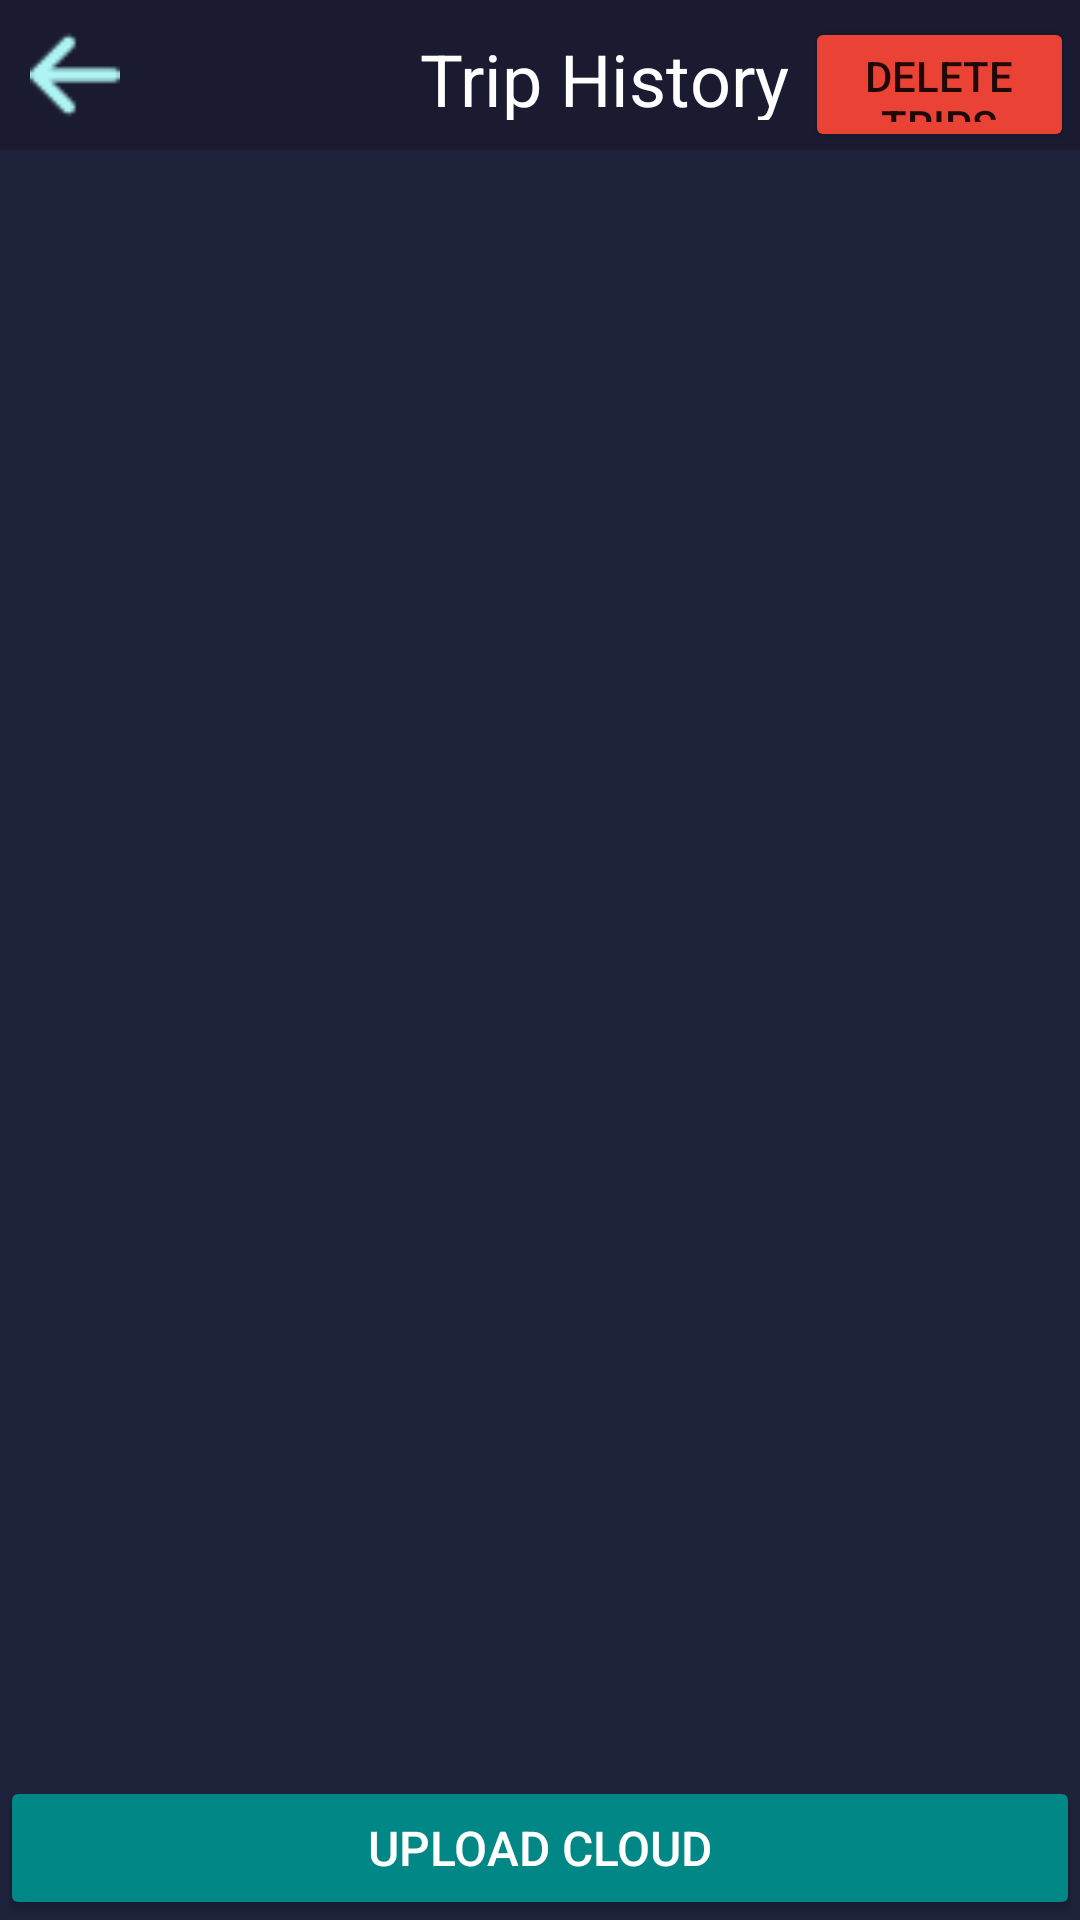

Named icons in this screenshot (1080px x 1920px) and their bounding boxes, (x1, y1, x2, y2):
back: (30, 34, 120, 116)
